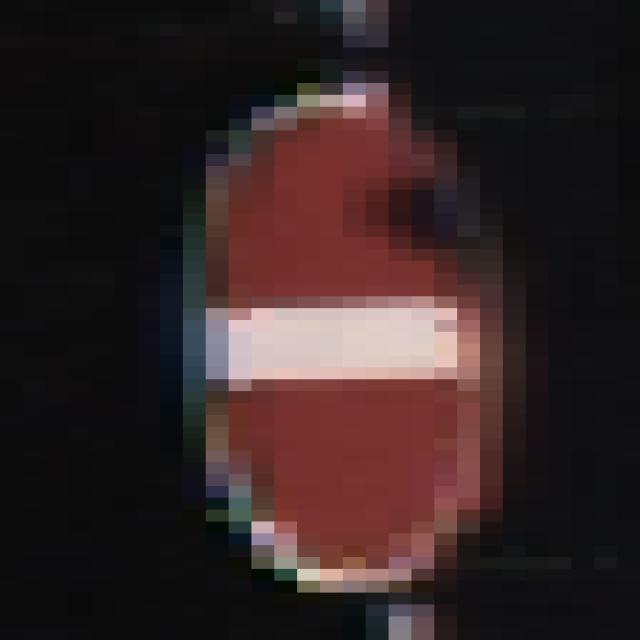No Entry: (138, 72, 504, 570)
